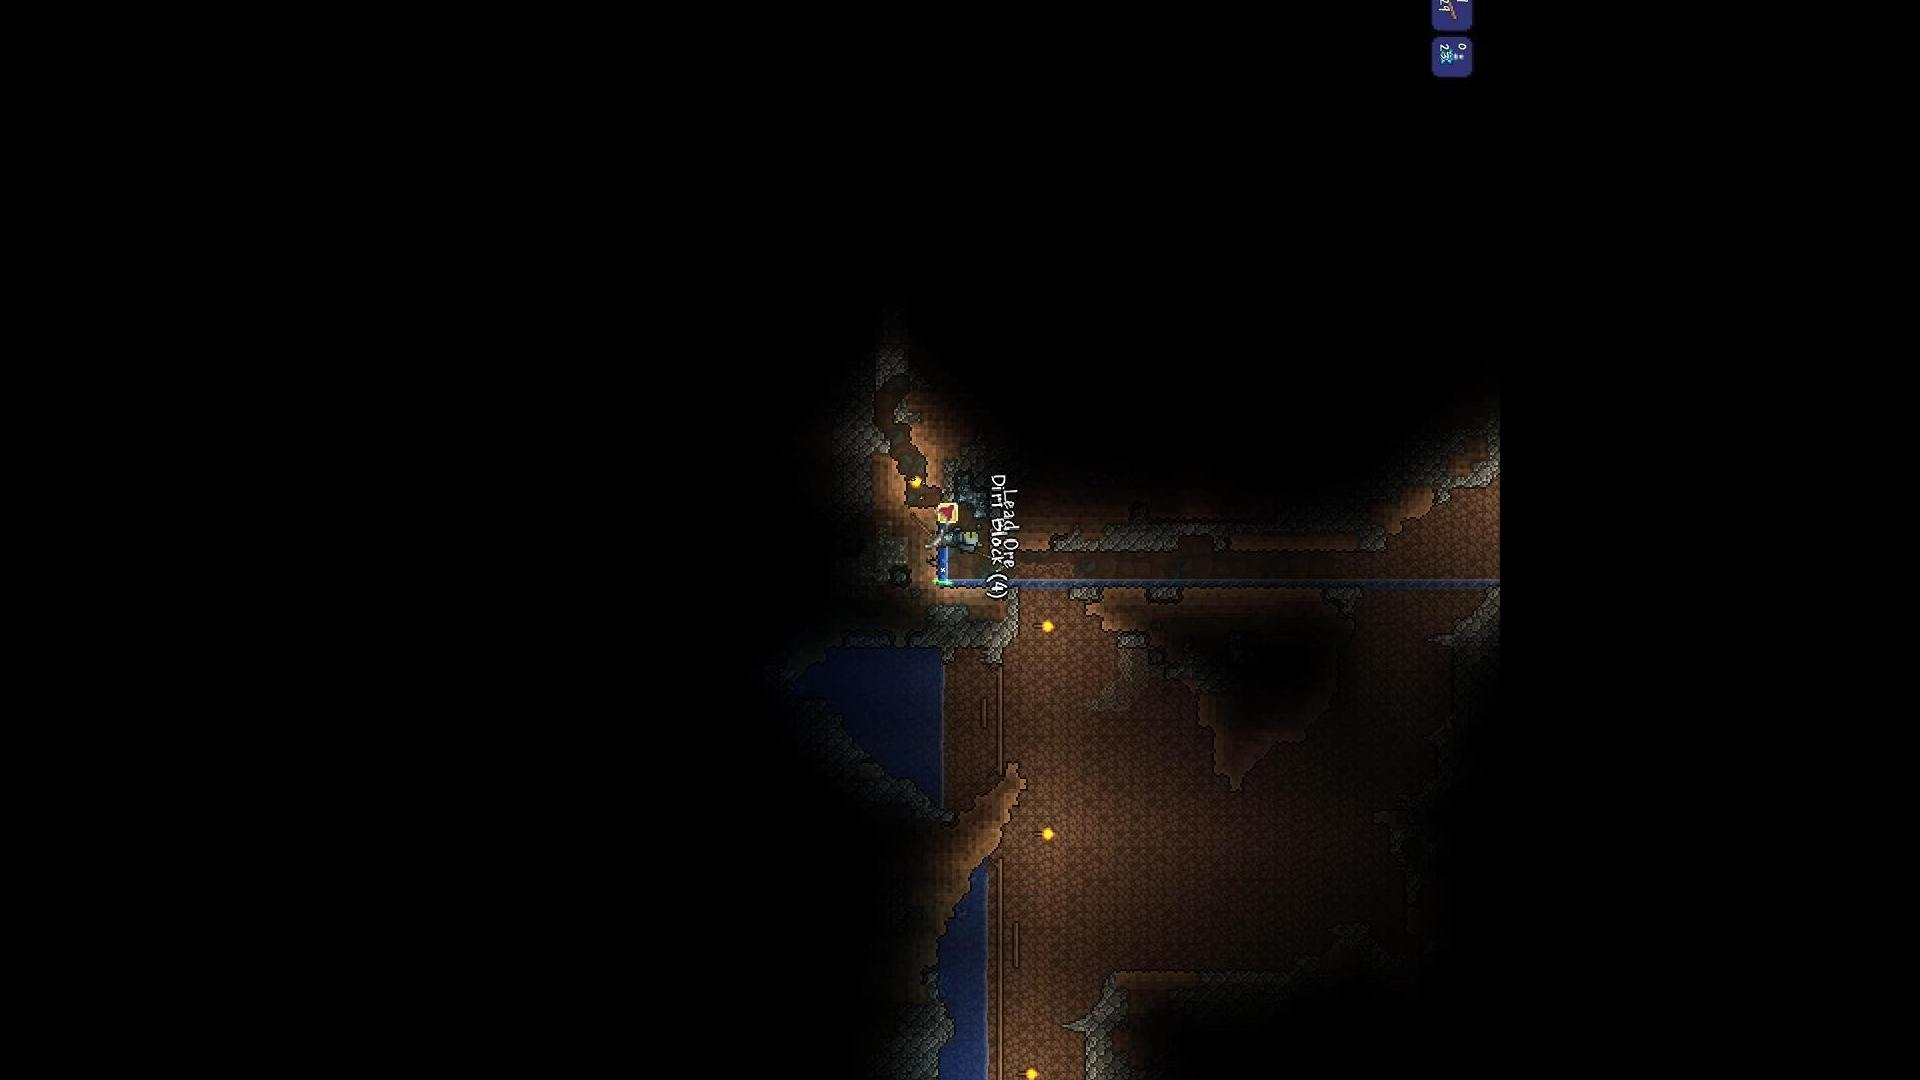glowstick: (934, 570, 961, 591)
platform: (990, 981, 1011, 1031), (990, 1031, 1011, 1080), (1007, 922, 1026, 965), (992, 855, 1009, 898), (992, 735, 1010, 774), (990, 938, 1006, 981), (992, 898, 1006, 936), (996, 661, 1009, 690), (978, 698, 989, 731), (1444, 0, 1458, 22), (993, 717, 1005, 741), (993, 695, 1005, 717)
recallP: (1439, 47, 1464, 67)
